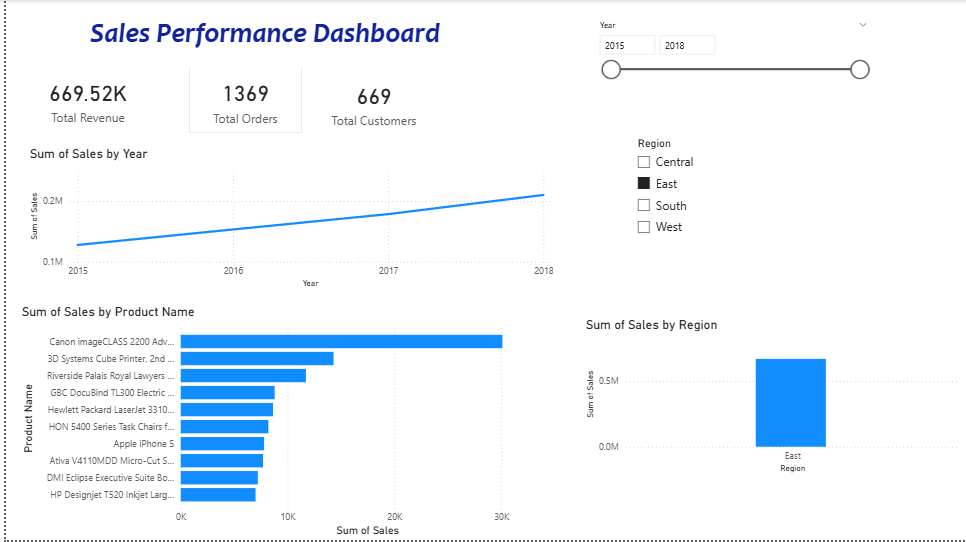

This screenshot's page, from the dashboard's own definition file:
{"tool":"powerbi","page":{"name":"Page 1","canvas":[1280,720],"ordinal":0},"visuals":[{"type":"card","fields":{"Values":["Sum(cleaned_superstore.Sales)"]},"box":[26.7,82.7,165.3,100],"z":0},{"type":"card","fields":{"Values":["Count(cleaned_superstore.Order ID)"]},"box":[244,89.3,150.7,88],"z":1000},{"type":"card","fields":{"Values":["Count(cleaned_superstore.Customer ID)"]},"box":[394.7,90.7,192,92],"z":2000},{"type":"lineClusteredColumnComboChart","fields":{"Category":["cleaned_superstore.Region"],"Y":["Sum(cleaned_superstore.Sales)"]},"box":[768,422.7,508,212],"z":3000},{"type":"lineChart","fields":{"Category":["cleaned_superstore.Year"],"Y":["Sum(cleaned_superstore.Sales)"]},"box":[26.7,194.7,708,193.3],"z":4000},{"type":"clusteredBarChart","fields":{"Category":["cleaned_superstore.Product Name"],"Y":["Sum(cleaned_superstore.Sales)"]},"box":[16,405.3,730.7,314.7],"z":5000},{"type":"slicer","fields":{"Values":["cleaned_superstore.Year"]},"box":[778.7,22.7,381.3,110.7],"z":6000},{"type":"slicer","fields":{"Values":["cleaned_superstore.Region"]},"box":[829.3,177.3,434.7,188],"z":7000},{"type":"textbox","box":[0,14.7,690.7,76],"z":8000}]}

Visuals, with their boxes in screenshot pixels (x1, y1, x2, y2), scaled from the page's 1280x720 canvas onto the 966x542 screenshot:
card - Sum(cleaned_superstore.Sales): <box>20,62,145,138</box>
card - Count(cleaned_superstore.Order ID): <box>184,67,298,133</box>
card - Count(cleaned_superstore.Customer ID): <box>298,68,443,138</box>
lineClusteredColumnComboChart - cleaned_superstore.Region x Sum(cleaned_superstore.Sales): <box>580,318,963,478</box>
lineChart - cleaned_superstore.Year x Sum(cleaned_superstore.Sales): <box>20,147,554,292</box>
clusteredBarChart - cleaned_superstore.Product Name x Sum(cleaned_superstore.Sales): <box>12,305,564,541</box>
slicer - cleaned_superstore.Year: <box>588,17,875,100</box>
slicer - cleaned_superstore.Region: <box>626,133,954,275</box>
textbox: <box>0,11,521,68</box>
